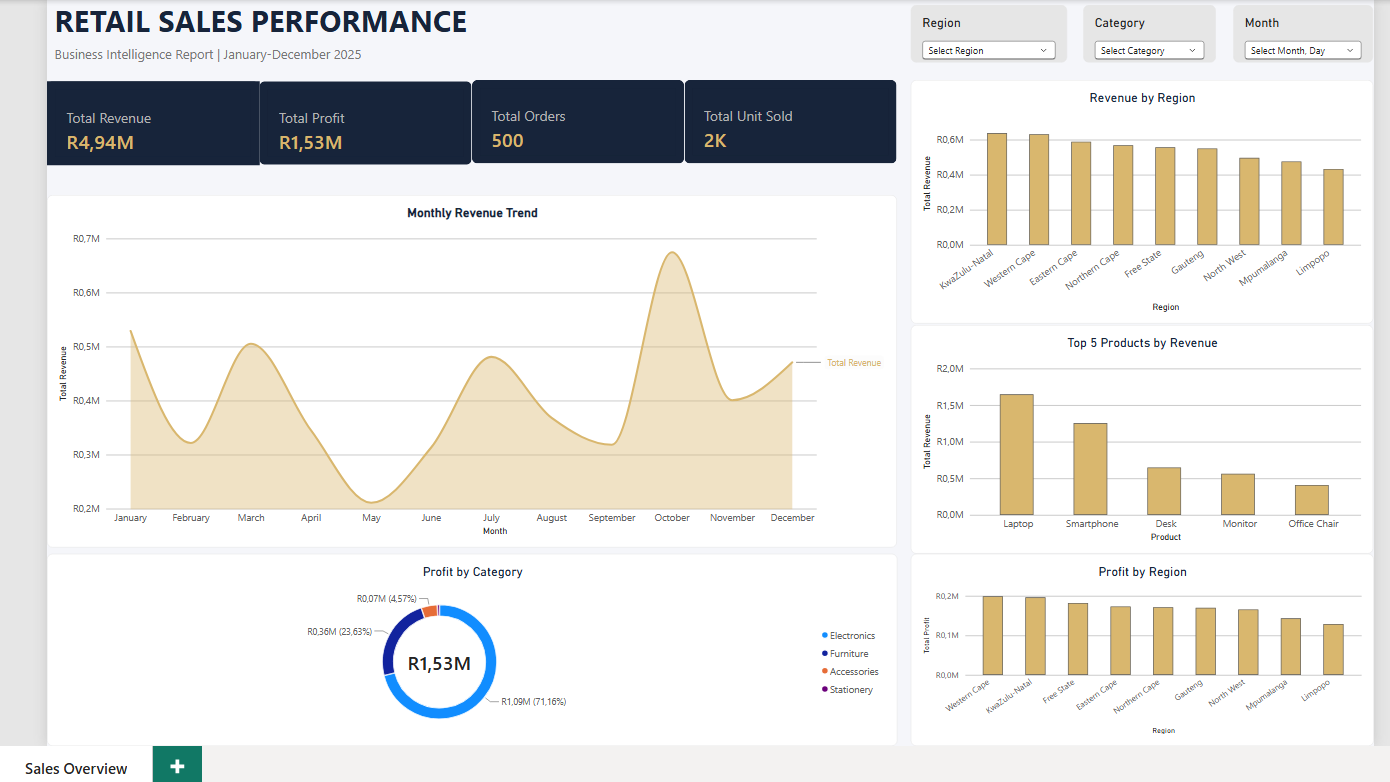

The page's visual inventory and layout, read from the dashboard file:
{"tool":"powerbi","page":{"name":"Sales Overview","canvas":[1920,1080],"ordinal":0},"visuals":[{"type":"textbox","box":[10.9,0,653.3,83.2],"z":0},{"type":"textbox","box":[10.9,65.1,653.3,50.7],"z":1000},{"type":"cardVisual","fields":{"Data":["sales_data.Total Revenue","sales_data.Total Revenue"]},"box":[0,117.6,307.6,121.2],"z":2000},{"type":"cardVisual","fields":{"Data":["sales_data.Total Profit"]},"box":[307.6,117.6,307.6,121.2],"z":3000},{"type":"cardVisual","fields":{"Data":["sales_data.Total Orders"]},"box":[615.3,115.8,307.6,121.2],"z":4000},{"type":"cardVisual","fields":{"Data":["sales_data.Total Unit Sold"]},"box":[922.9,115.8,307.6,121.2],"z":5000},{"type":"lineChart","title":"Monthly Revenue Trend","fields":{"Category":["sales_data.OrderDate.Variation.Date Hierarchy.Month"],"Y":["sales_data.Total Revenue"]},"box":[0,282.3,1230.6,510.3],"z":6000},{"type":"clusteredColumnChart","title":"Revenue by Region","fields":{"Category":["sales_data.Region"],"Y":["sales_data.Total Revenue"]},"box":[1250.5,115.8,669.6,352.9],"z":6001},{"type":"donutChart","title":"Profit by Category","fields":{"Category":["sales_data.Category"],"Y":["sales_data.Total Profit"]},"box":[0,802,1231,278],"z":6002},{"type":"clusteredColumnChart","title":"Top 5 Products by Revenue","fields":{"Category":["sales_data.Product"],"Y":["sales_data.Total Revenue"]},"box":[1250.5,470.5,669.6,331.2],"z":6003},{"type":"clusteredColumnChart","title":"Profit by Region","fields":{"Category":["sales_data.Region"],"Y":["sales_data.Total Profit"]},"box":[1250,802,670,278],"z":6004},{"type":"listSlicer","fields":{"Values":["sales_data.Region"]},"box":[1250.5,7.2,226.2,83.2],"z":6005},{"type":"listSlicer","fields":{"Values":["sales_data.Category"]},"box":[1500.2,7.2,191.8,83.2],"z":6006},{"type":"listSlicer","fields":{"Values":["sales_data.OrderDate.Variation.Date Hierarchy.Month","sales_data.OrderDate.Variation.Date Hierarchy.Day"]},"box":[1717.4,7.2,202.7,83.2],"z":6007}]}

Visuals, with their boxes on the page's 1920x1080 design canvas (x1, y1, x2, y2). These are canvas units, not pixel positions in the 1390x782 screenshot, which may show the page scaled, cropped or inside an application window:
textbox: [x1=11, y1=0, x2=664, y2=83]
textbox: [x1=11, y1=65, x2=664, y2=116]
cardVisual - sales_data.Total Revenue x sales_data.Total Revenue: [x1=0, y1=118, x2=308, y2=239]
cardVisual - sales_data.Total Profit: [x1=308, y1=118, x2=615, y2=239]
cardVisual - sales_data.Total Orders: [x1=615, y1=116, x2=923, y2=237]
cardVisual - sales_data.Total Unit Sold: [x1=923, y1=116, x2=1230, y2=237]
"Monthly Revenue Trend" lineChart: [x1=0, y1=282, x2=1231, y2=793]
"Revenue by Region" clusteredColumnChart: [x1=1250, y1=116, x2=1920, y2=469]
"Profit by Category" donutChart: [x1=0, y1=802, x2=1231, y2=1080]
"Top 5 Products by Revenue" clusteredColumnChart: [x1=1250, y1=470, x2=1920, y2=802]
"Profit by Region" clusteredColumnChart: [x1=1250, y1=802, x2=1920, y2=1080]
listSlicer - sales_data.Region: [x1=1250, y1=7, x2=1477, y2=90]
listSlicer - sales_data.Category: [x1=1500, y1=7, x2=1692, y2=90]
listSlicer - sales_data.OrderDate.Variation.Date Hierarchy.Month x sales_data.OrderDate.Variation.Date Hierarchy.Day: [x1=1717, y1=7, x2=1920, y2=90]
